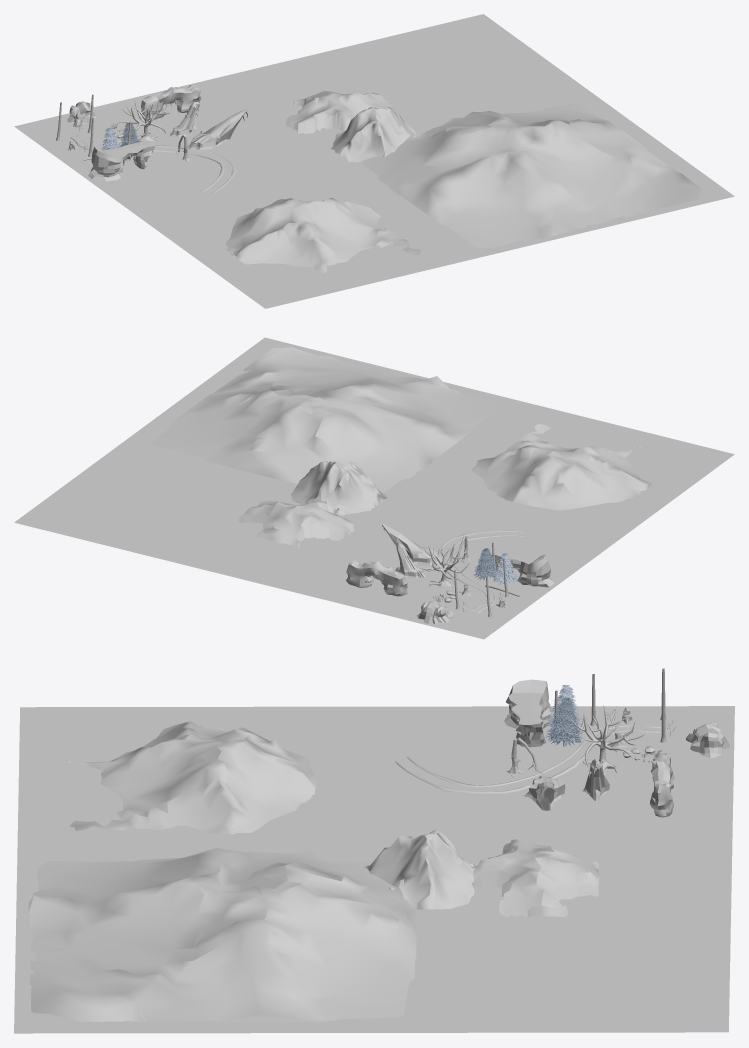
Rendered from ice theme fbx.fbx.
3 renders of one model, top to bottom at view 1: azimuth 30°, elevation 25°; view 2: azimuth 150°, elevation 25°; view 3: azimuth 270°, elevation 25°, orthographic. The views are drawn at different scales.
Visible parts, largest first — view 1: polySurface227, mountains3, mountains1, mountains2, mountains4, pasted__polySurface58, pasted__polySurface57, polySurface389, pasted__polySurface55, pasted__polySurface95, pasted__polySurface48, pasted__polySurface56; view 2: polySurface227, mountains3, mountains1, mountains4, mountains2, pasted__polySurface57, pasted__polySurface58, polySurface389, pasted__polySurface55, pasted__polySurface95, pasted__polySurface48, pasted__polySurface56 (+1 smaller); view 3: polySurface227, mountains3, mountains1, mountains4, mountains2, polySurface389, pasted__polySurface58, pasted__polySurface57, pasted__polySurface95, tree2, pasted__polySurface48, pasted__polySurface55 (+1 smaller).
Part boxes in pixels (box(x1,y1,x2,y2)): polySurface227: box(14, 14, 734, 308); mountains3: box(360, 103, 701, 247); mountains1: box(226, 197, 422, 278); mountains2: box(331, 106, 416, 162); mountains4: box(286, 90, 396, 133); pasted__polySurface58: box(88, 140, 155, 181); pasted__polySurface57: box(141, 85, 201, 121); polySurface389: box(69, 135, 236, 193); pasted__polySurface55: box(187, 109, 248, 149); pasted__polySurface95: box(116, 99, 169, 141); pasted__polySurface48: box(66, 101, 96, 127); pasted__polySurface56: box(169, 102, 198, 136); polySurface227: box(14, 337, 734, 639); mountains3: box(152, 347, 502, 492); mountains1: box(471, 424, 651, 510); mountains4: box(238, 500, 355, 546); mountains2: box(291, 461, 387, 515); pasted__polySurface57: box(346, 560, 407, 596); pasted__polySurface58: box(488, 547, 554, 587); polySurface389: box(438, 530, 525, 613); pasted__polySurface55: box(382, 524, 442, 565); pasted__polySurface95: box(419, 544, 469, 588); pasted__polySurface48: box(416, 601, 454, 624); pasted__polySurface56: box(395, 542, 425, 578); polySurface227: box(14, 706, 734, 1033); mountains3: box(28, 848, 416, 1021); mountains1: box(67, 721, 315, 834); mountains4: box(472, 839, 600, 917); mountains2: box(361, 830, 475, 909); polySurface389: box(395, 725, 661, 793); pasted__polySurface58: box(504, 679, 550, 747); pasted__polySurface57: box(650, 753, 674, 817); pasted__polySurface95: box(569, 705, 644, 774); tree2: box(544, 697, 583, 747); pasted__polySurface48: box(686, 722, 730, 757); pasted__polySurface55: box(524, 775, 566, 810).
Size of the model in its own units: 538 by 66.26 by 501.
